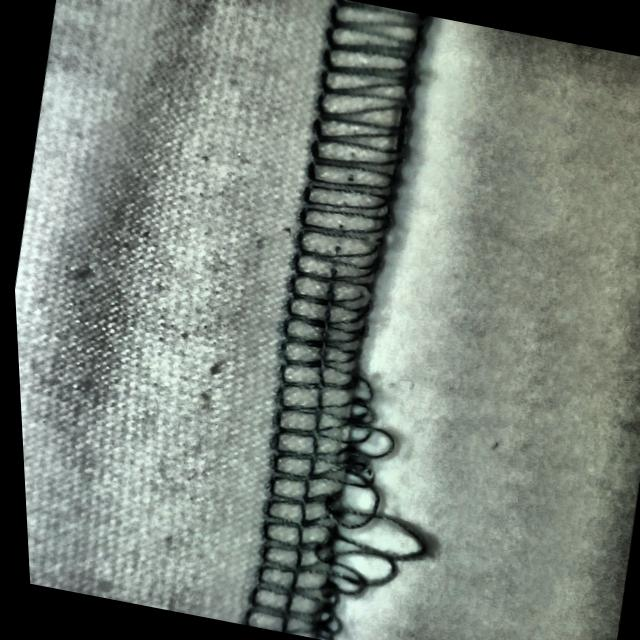Stitch: (216, 357, 459, 640)
